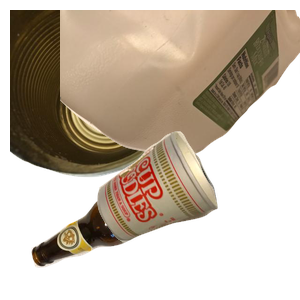glass: (29, 150, 238, 300)
metal: (10, 10, 200, 180)
plastic: (60, 10, 300, 160)
trash: (95, 129, 300, 300)
